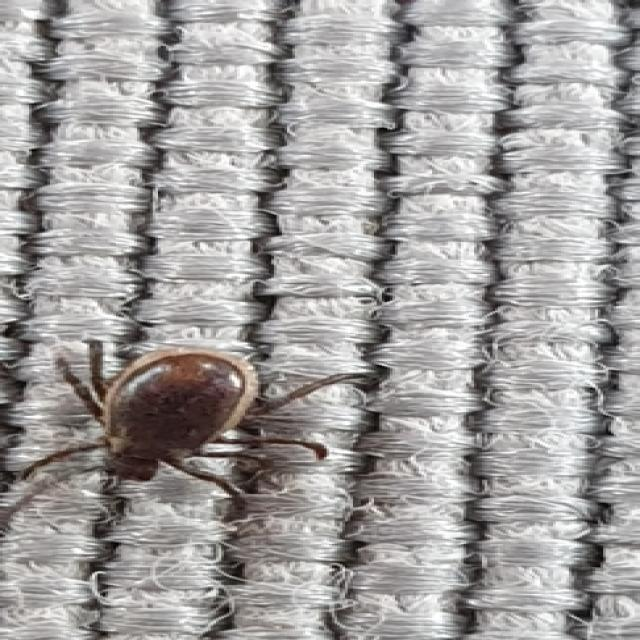Ixodes Ricinus-M: (16, 342, 377, 495)
